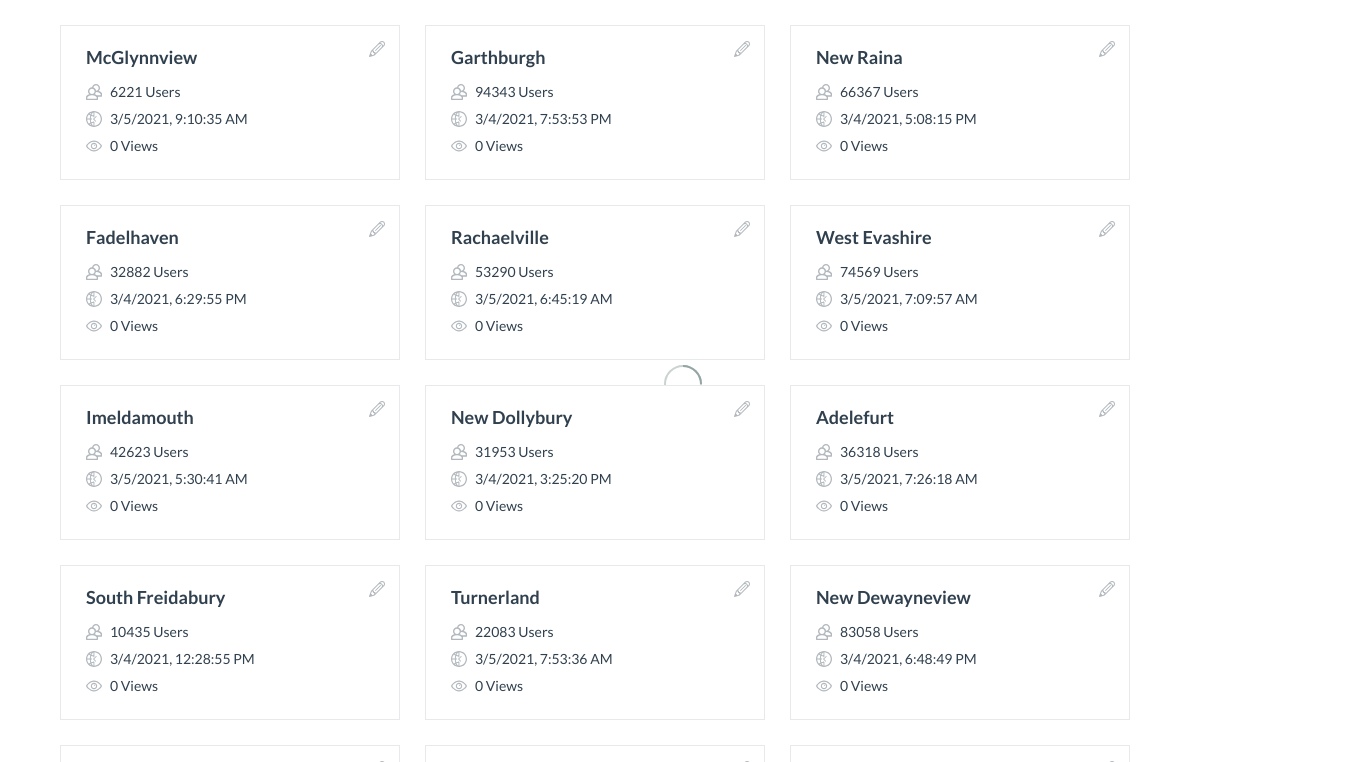
Test: <Dashboard /> component › should open location modal on click of the card, and show relevant data, increment a view, be able to close a modal
What coordinates should you click on to do the following:
click the element with test id "location-card" that starts with "McGlynnview"
I would click on:
 (230, 102)
Its box is [60, 25, 400, 180].
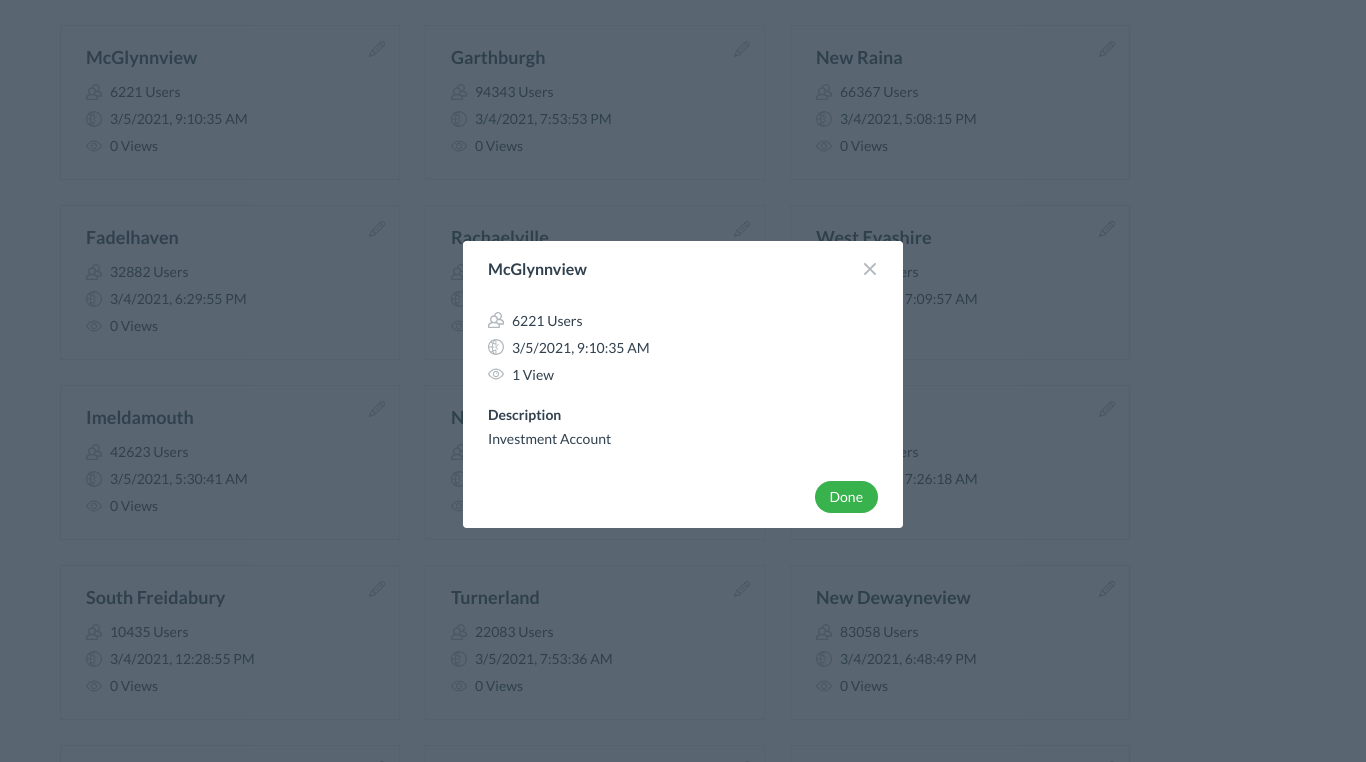
expect the element with test id "modal" is shown: met, box [463, 240, 903, 528]
expect the text "Investment Account" is shown: met, box [488, 430, 611, 446]
expect the text "1 View" is shown: met, box [488, 366, 554, 382]
// close modal
What coordinates should you click on to do the following:
click the button "Done"
I would click on:
 (846, 496)
Its box is [814, 480, 878, 512].
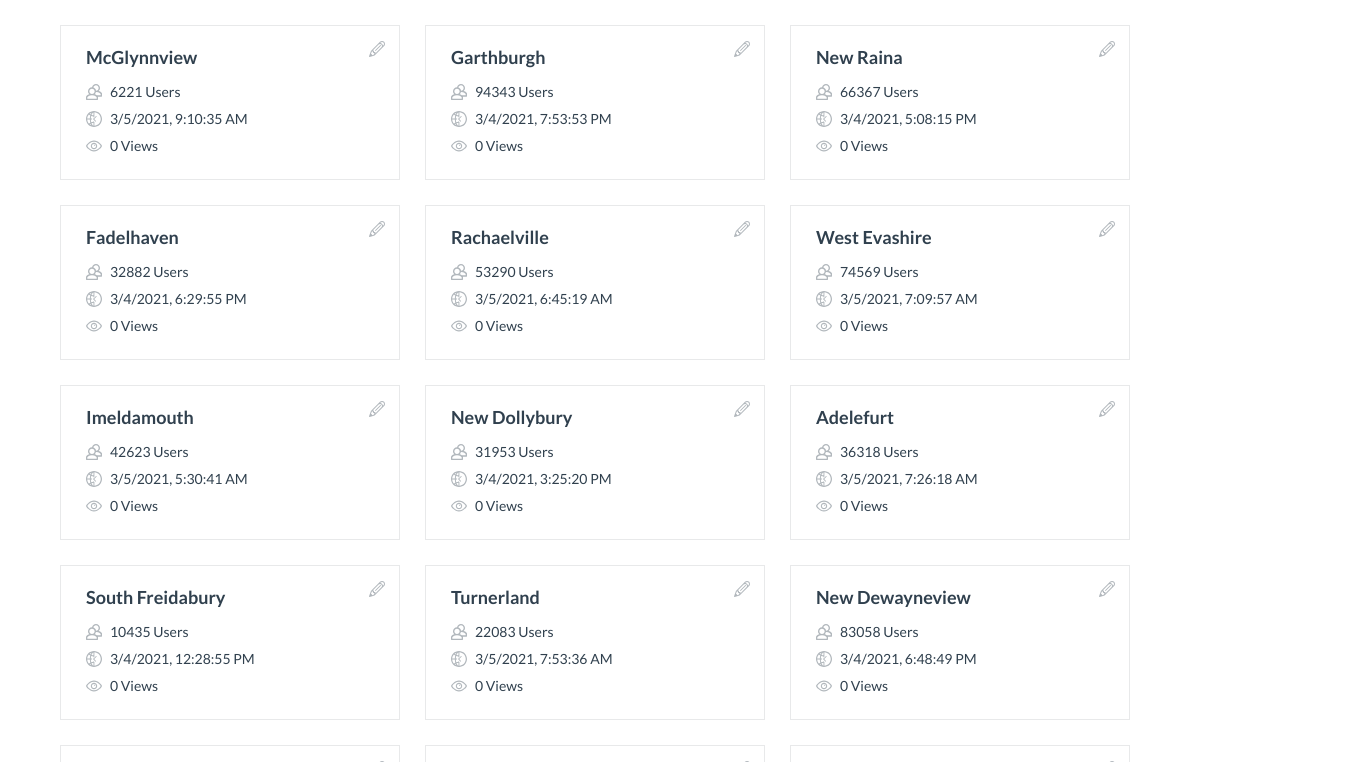
expect the element with test id "modal" is gone: met
